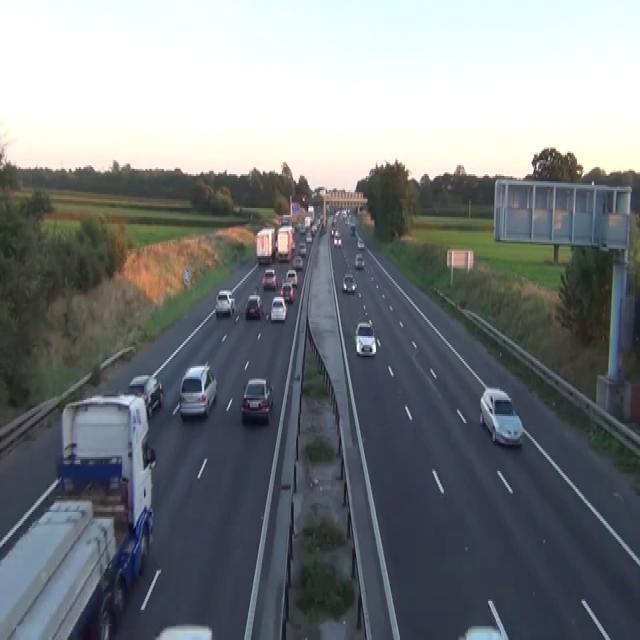Car: (479, 386, 523, 446), (178, 361, 217, 418), (457, 598, 509, 638), (127, 374, 163, 419), (241, 377, 273, 421), (154, 624, 212, 638), (355, 320, 376, 356), (457, 624, 504, 638), (215, 288, 235, 316), (270, 295, 287, 322), (245, 294, 263, 318), (261, 266, 277, 290), (279, 281, 294, 302), (342, 272, 356, 293), (285, 268, 297, 286), (354, 252, 365, 268), (292, 254, 303, 268), (333, 231, 342, 247), (258, 254, 271, 265), (298, 242, 306, 256), (357, 238, 364, 249), (305, 231, 312, 242), (349, 224, 355, 235), (311, 224, 317, 235), (299, 224, 305, 233), (332, 215, 337, 224), (321, 224, 326, 233), (341, 210, 346, 218), (331, 226, 335, 236), (292, 240, 295, 251)
Truck: (0, 391, 155, 638), (0, 498, 116, 638), (56, 391, 156, 532), (255, 226, 276, 263), (276, 226, 294, 261), (307, 205, 314, 222)
